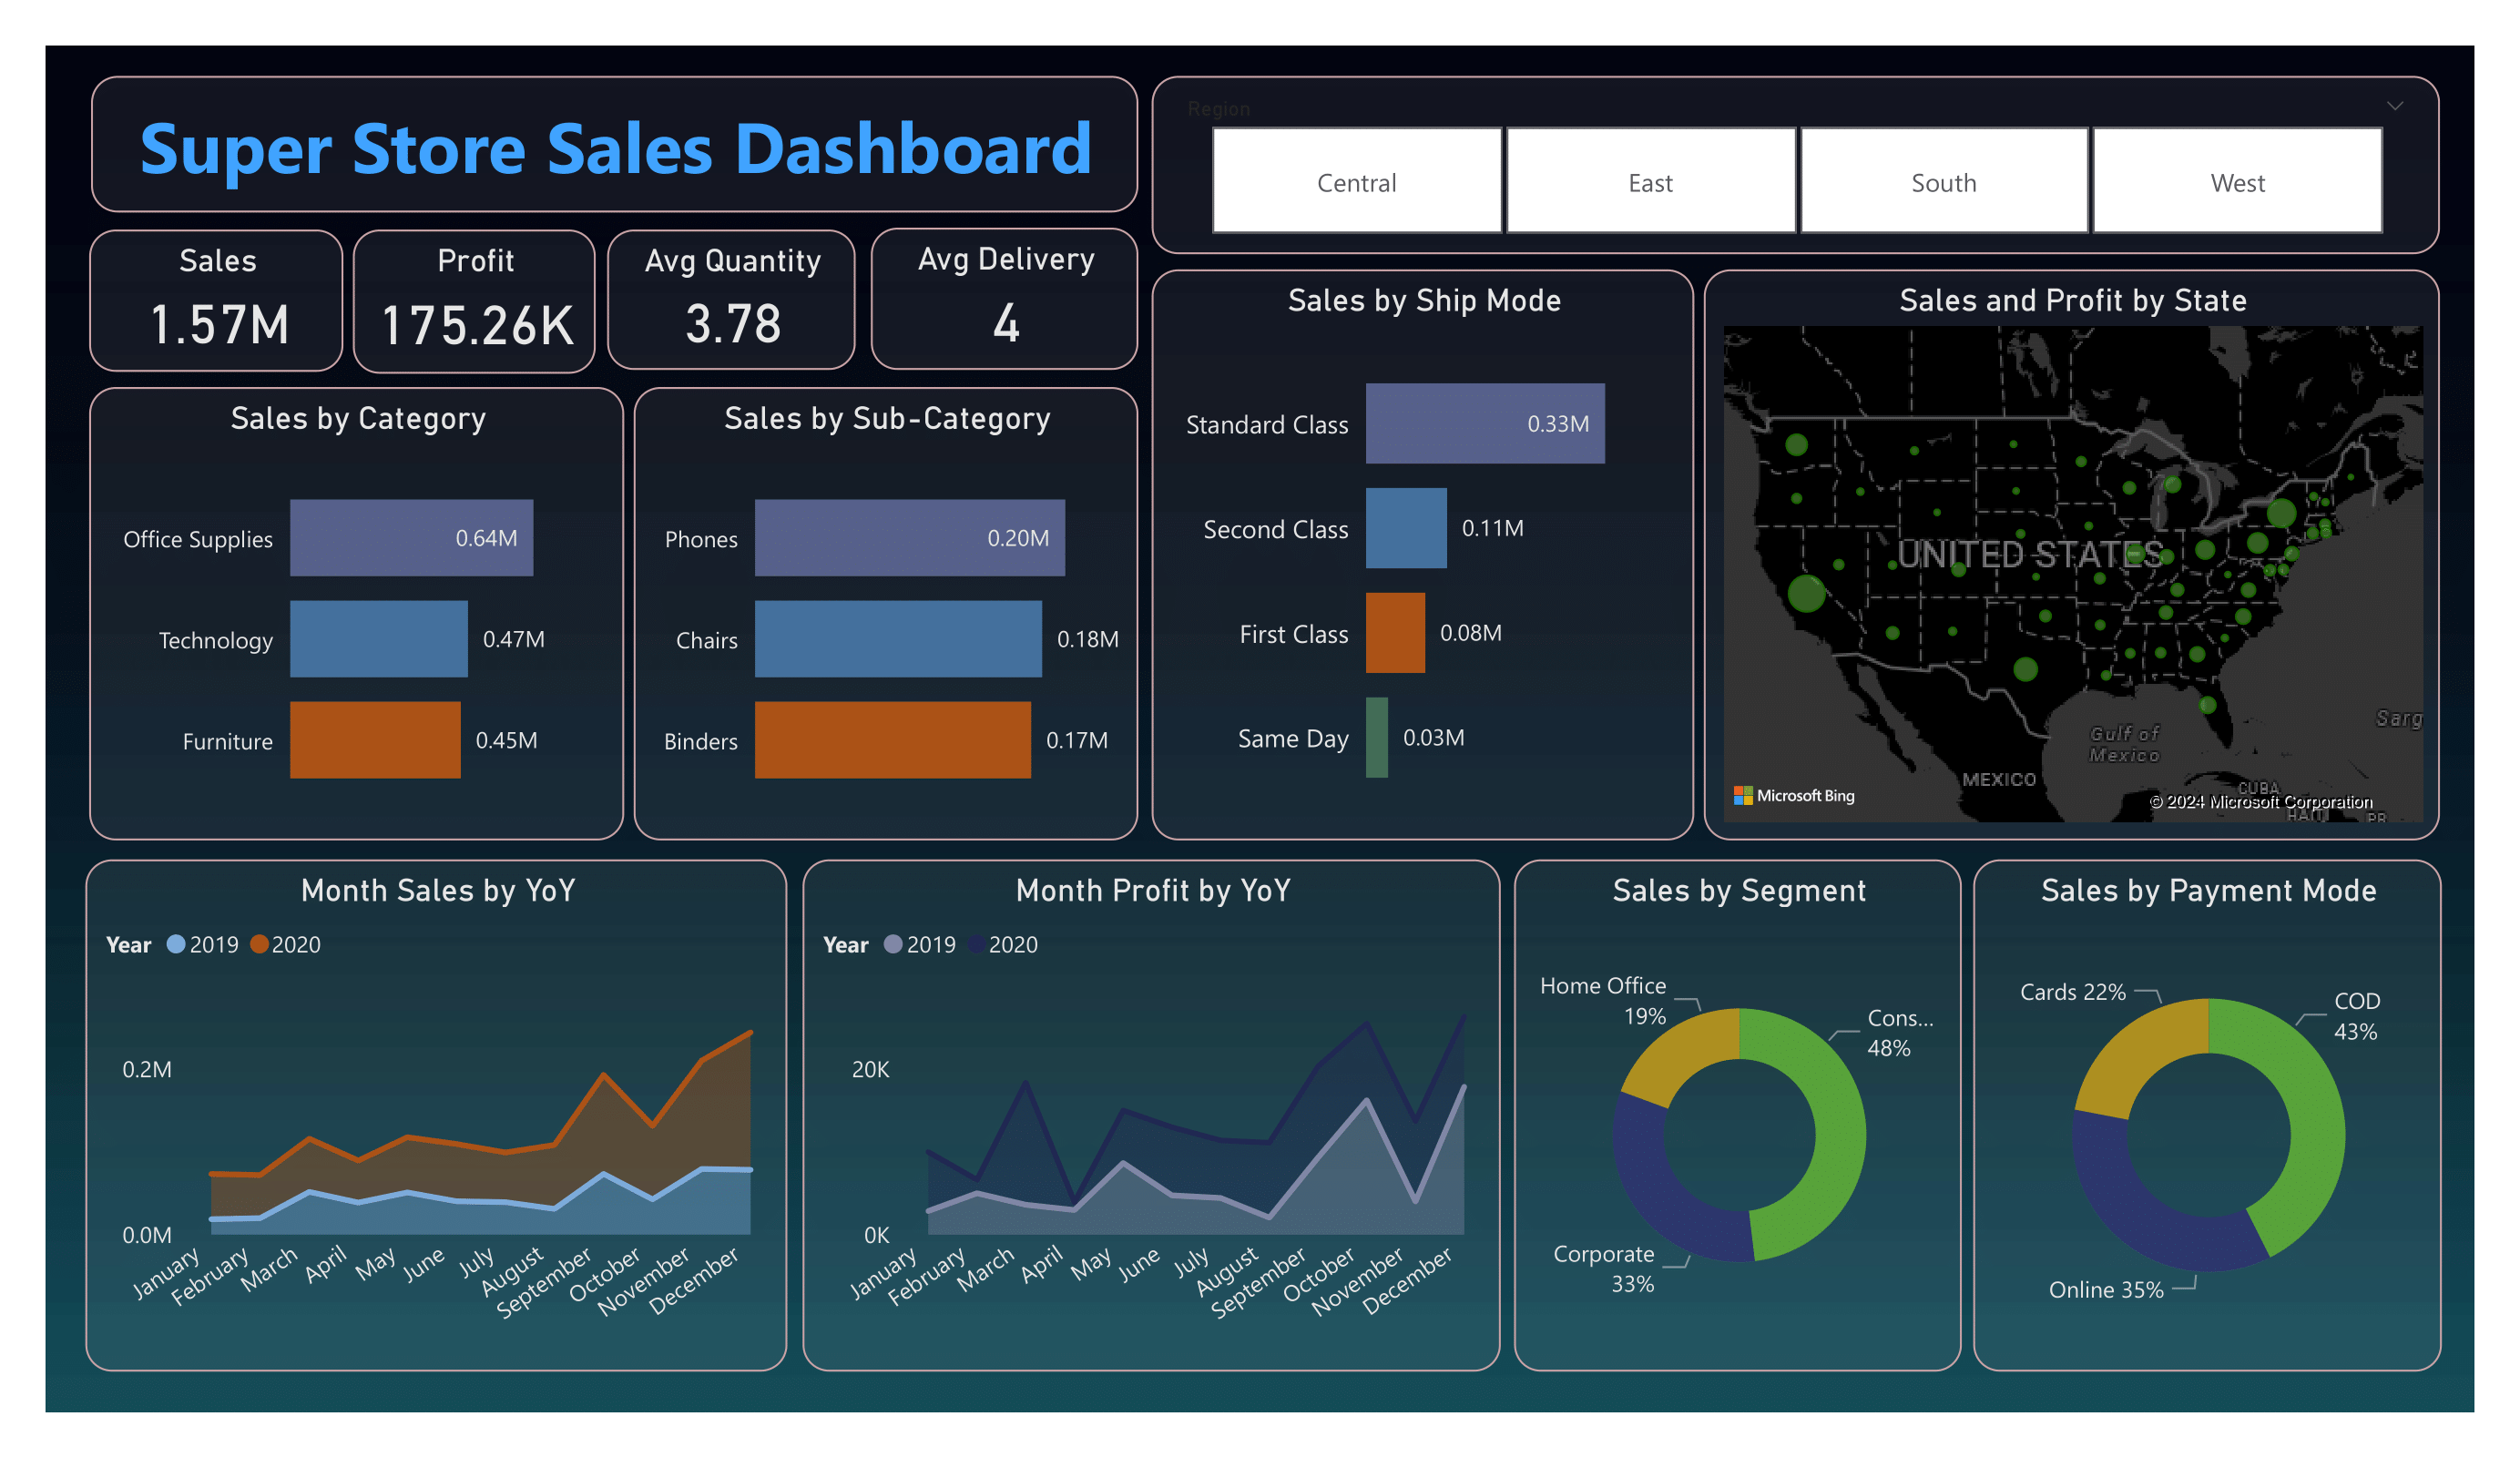

Layout of this report page (visuals, bound fields, positions):
{"tool":"powerbi","page":{"name":"Page 1","canvas":[1280,720],"ordinal":0},"visuals":[{"type":"clusteredBarChart","title":"Sales by Category","fields":{"Category":["Sheet1.Category"],"Y":["Sum(Sheet1.Sales)"]},"box":[23.1,180,281.9,238.8],"z":0},{"type":"clusteredBarChart","title":"Sales by Sub-Category","fields":{"Category":["Sheet1.Sub-Category"],"Y":["Sum(Sheet1.Sales)"]},"box":[310.1,179.8,266.2,238.8],"z":1000},{"type":"clusteredBarChart","title":"Sales by Ship Mode","fields":{"Category":["Sheet1.Ship Mode"],"Y":["Sum(Sheet1.Sales)"]},"box":[582.9,117.9,285.7,300.7],"z":2000},{"type":"stackedAreaChart","title":"Month Sales by YoY","fields":{"Y":["Sum(Sheet1.Sales)"],"Category":["Sheet1.Order Date.Variation.Date Hierarchy.Month","Sheet1.Order Date.Variation.Date Hierarchy.Day"],"Series":["Sheet1.Order Date.Variation.Date Hierarchy.Year"]},"box":[21.4,428.6,370,270],"z":3000},{"type":"stackedAreaChart","title":"Month Profit by YoY","fields":{"Category":["Sheet1.Order Date.Variation.Date Hierarchy.Month","Sheet1.Order Date.Variation.Date Hierarchy.Day"],"Series":["Sheet1.Order Date.Variation.Date Hierarchy.Year"],"Y":["Sum(Sheet1.Profit)"]},"box":[398.6,428.6,368.6,270],"z":4000},{"type":"map","title":"Sales and Profit by State","fields":{"Category":["Sheet1.State"],"Size":["Sum(Sheet1.Sales)"]},"box":[874.1,118,388.3,300.5],"z":5000},{"type":"donutChart","title":"Sales by Segment","fields":{"Category":["Sheet1.Segment"],"Y":["Sum(Sheet1.Sales)"]},"box":[774.3,428.6,235.7,270],"z":6000},{"type":"donutChart","title":"Sales by Payment Mode","fields":{"Category":["Sheet1.Payment Mode"],"Y":["Sum(Sheet1.Sales)"]},"box":[1016.4,428.6,246.4,270],"z":7000},{"type":"slicer","fields":{"Values":["Sheet1.Region"]},"box":[583.2,16.5,679.2,93.3],"z":8000},{"type":"textbox","box":[23.8,16.2,552.5,71.2],"z":9000},{"type":"card","title":"Sales","fields":{"Values":["Sum(Sheet1.Sales)"]},"box":[23.3,96.7,133.3,75],"z":10000},{"type":"card","title":"Profit","fields":{"Values":["Sum(Sheet1.Profit)"]},"box":[161.9,97.4,127.6,75.5],"z":11000},{"type":"card","title":"Avg Quantity","fields":{"Values":["Avg(Sheet1.Quantity)"]},"box":[295.7,97.1,131.4,74.3],"z":12000},{"type":"card","title":"Avg Delivery","fields":{"Values":["Avg(Sheet1.AvgDelivery)"]},"box":[434.7,96,141.3,75.3],"z":13000}]}

Visuals, with their boxes in screenshot pixels (x1, y1, x2, y2):
"Sales by Category" clusteredBarChart: crop(89, 387, 624, 841)
"Sales by Sub-Category" clusteredBarChart: crop(634, 387, 1139, 840)
"Sales by Ship Mode" clusteredBarChart: crop(1152, 270, 1694, 840)
"Month Sales by YoY" stackedAreaChart: crop(87, 859, 789, 1370)
"Month Profit by YoY" stackedAreaChart: crop(802, 859, 1502, 1370)
"Sales and Profit by State" map: crop(1704, 270, 2441, 840)
"Sales by Segment" donutChart: crop(1515, 859, 1962, 1370)
"Sales by Payment Mode" donutChart: crop(1974, 859, 2442, 1370)
slicer - Sheet1.Region: crop(1152, 76, 2441, 254)
textbox: crop(91, 76, 1139, 211)
"Sales" card: crop(90, 229, 342, 372)
"Profit" card: crop(352, 230, 595, 373)
"Avg Quantity" card: crop(607, 229, 856, 371)
"Avg Delivery" card: crop(871, 228, 1138, 371)
